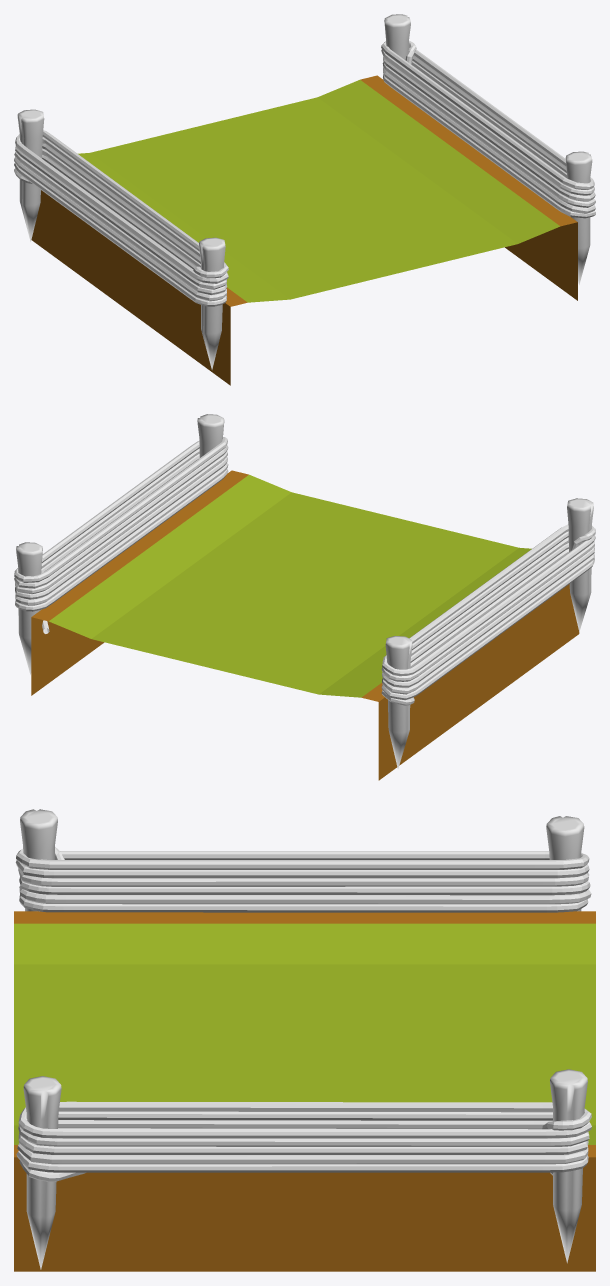
The model's file is Straight_Sloped_Sides01.fbx.
3 renders of one model, top to bottom at view 1: azimuth 30°, elevation 25°; view 2: azimuth 150°, elevation 25°; view 3: azimuth 270°, elevation 25°, orthographic. The views are drawn at different scales.
Parts seen in each view (by area): view 1: Cube.006, Cube.003, Cube.001; view 2: Cube.006, Cube.003, Cube.001; view 3: Cube.006, Cube.001, Cube.003.
Part boxes in pixels (x1,y1,x2,y2): Cube.006: (31,75,577,385); Cube.003: (14,109,228,369); Cube.001: (381,14,595,284); Cube.006: (31,470,579,780); Cube.003: (381,498,595,768); Cube.001: (14,414,228,674); Cube.006: (14,911,595,1271); Cube.001: (16,1069,591,1269); Cube.003: (15,809,591,912).
Size of the model in its own units: 230 by 76.46 by 200.
